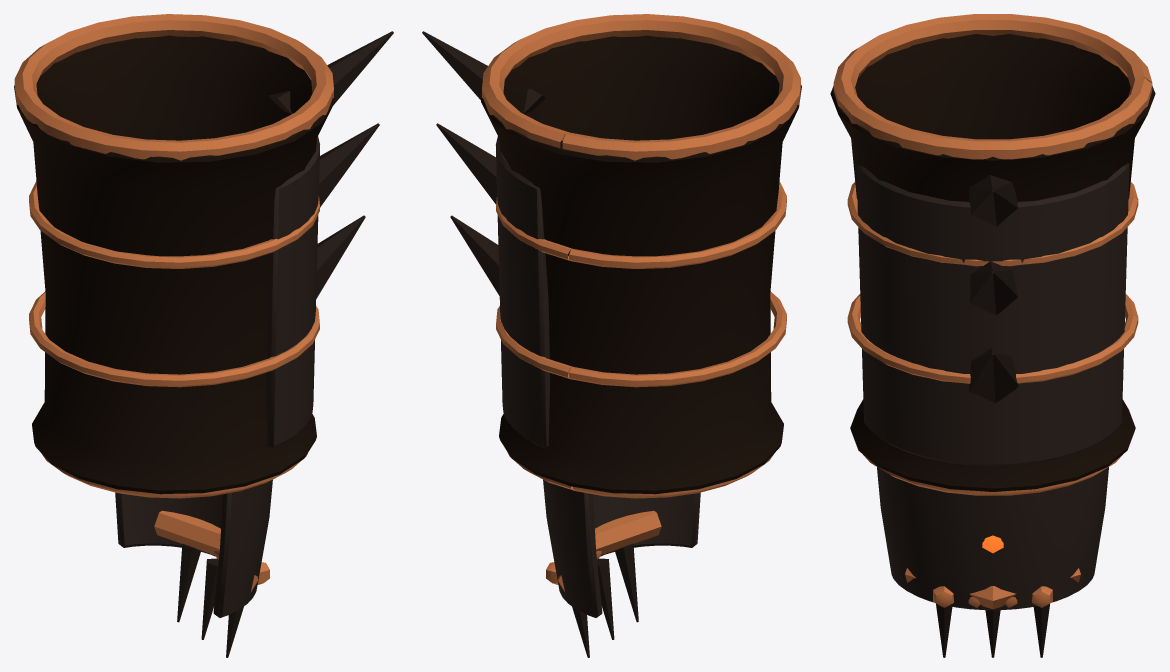
Rendered from asc_cinderbolt_ballista_gloves.glb.
The picture shows the model from 3 angles, left to right: view 1: azimuth 30°, elevation 25°; view 2: azimuth 150°, elevation 25°; view 3: azimuth 270°, elevation 25°; orthographic projection.
Visible parts, largest first — view 1: asc_cinderbolt_ballista_gloves, AT_hand_L; view 2: asc_cinderbolt_ballista_gloves, AT_hand_L; view 3: asc_cinderbolt_ballista_gloves, AT_hand_L.
Boxes of the visible parts, x1=… form: asc_cinderbolt_ballista_gloves: x1=14, y1=14, x2=393, y2=498; AT_hand_L: x1=115, y1=479, x2=272, y2=657; asc_cinderbolt_ballista_gloves: x1=422, y1=14, x2=801, y2=498; AT_hand_L: x1=543, y1=479, x2=700, y2=657; asc_cinderbolt_ballista_gloves: x1=830, y1=14, x2=1155, y2=495; AT_hand_L: x1=877, y1=467, x2=1108, y2=657.
Bounding box in the file's own units: 0.2539 × 0.385 × 0.2004.
